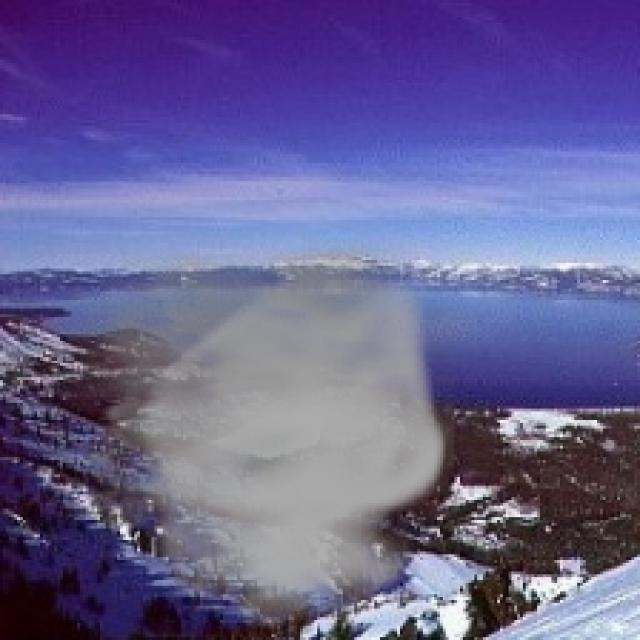Smoke: (28, 228, 454, 628)
